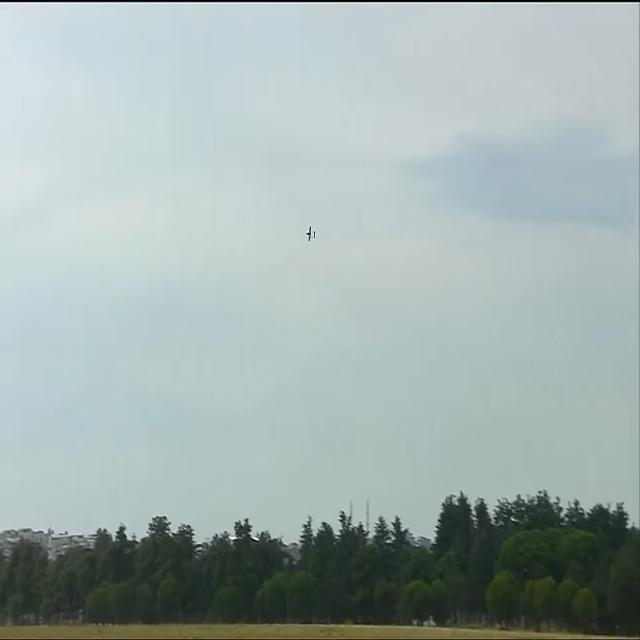iha: (308, 224, 314, 242)
